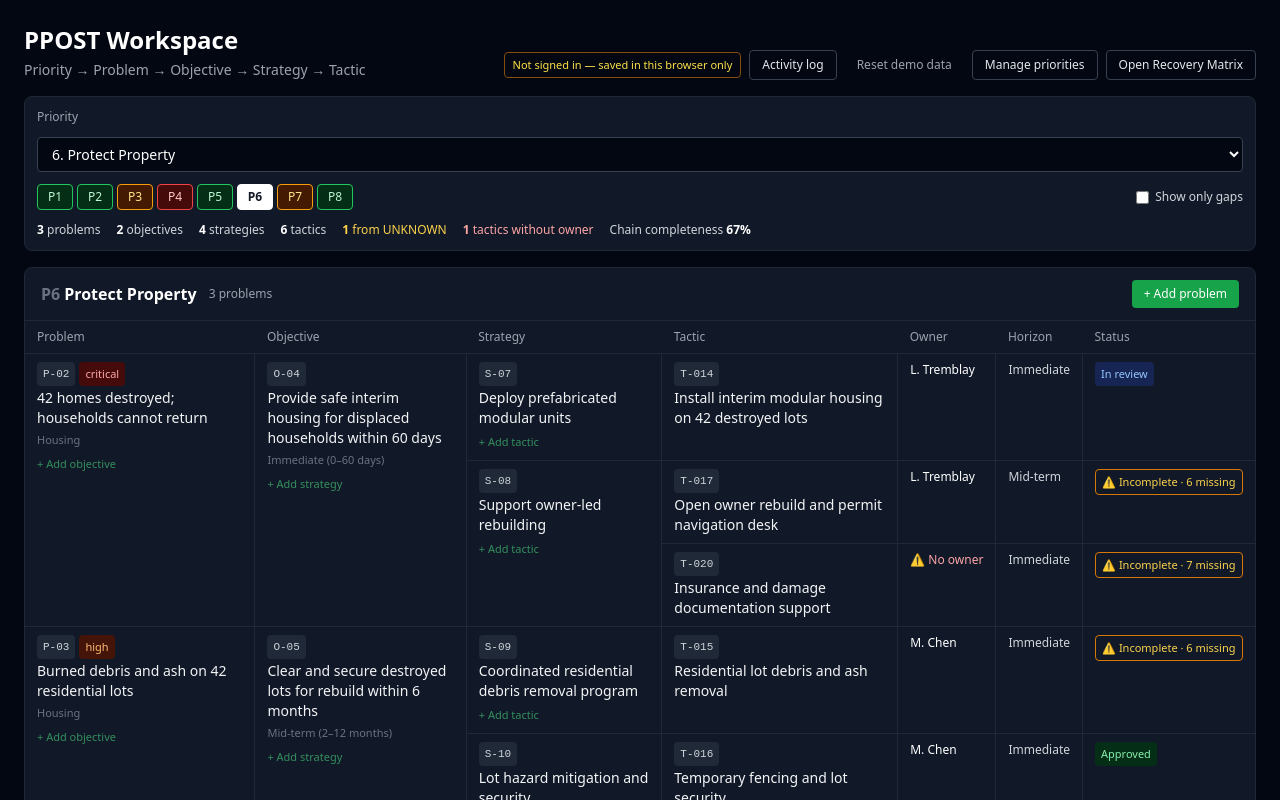
Test: a tactic with missing 5W1H fields cannot be submitted for review
This screenshot has width=1280, height=800.
Click the text "Insurance and damage documentation support".
click(752, 598)  # box [674,578,831,617]
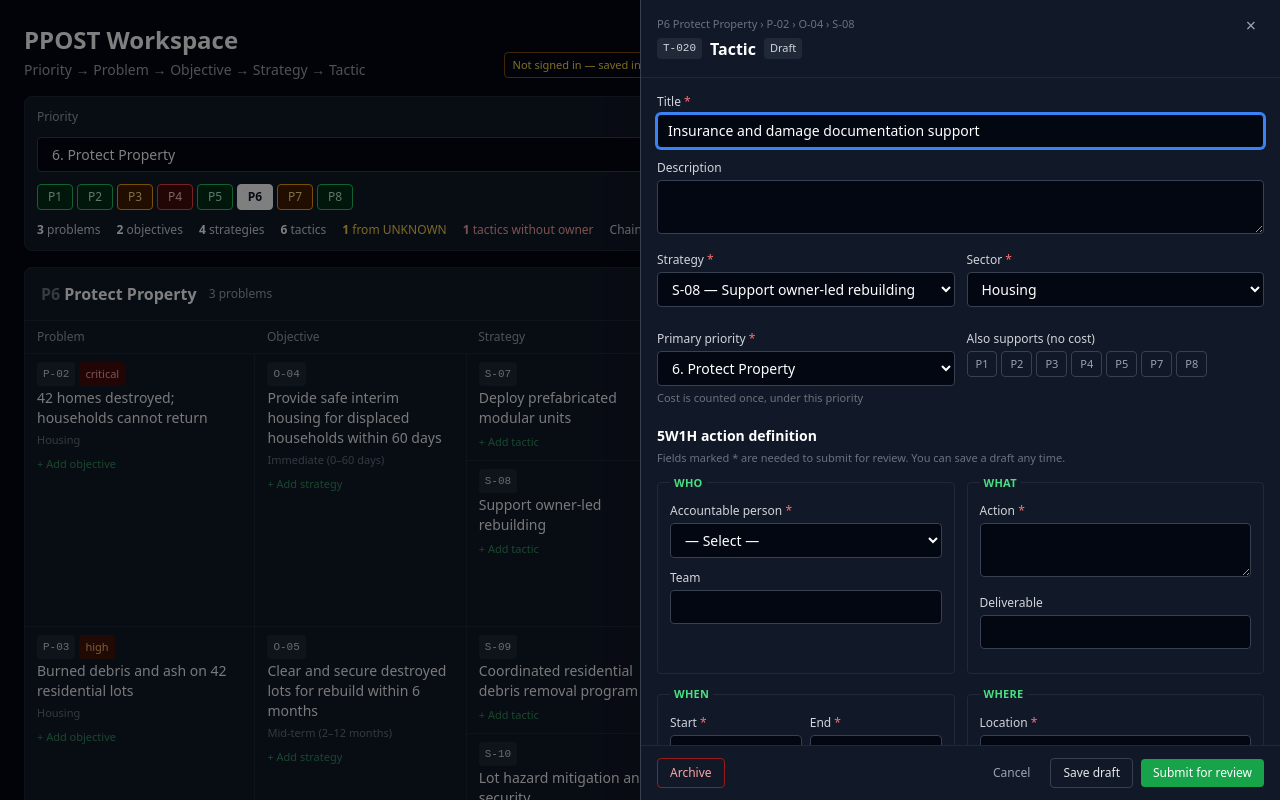
Click the button "Submit for review".
click(1202, 773)  # box [1141,759,1264,787]
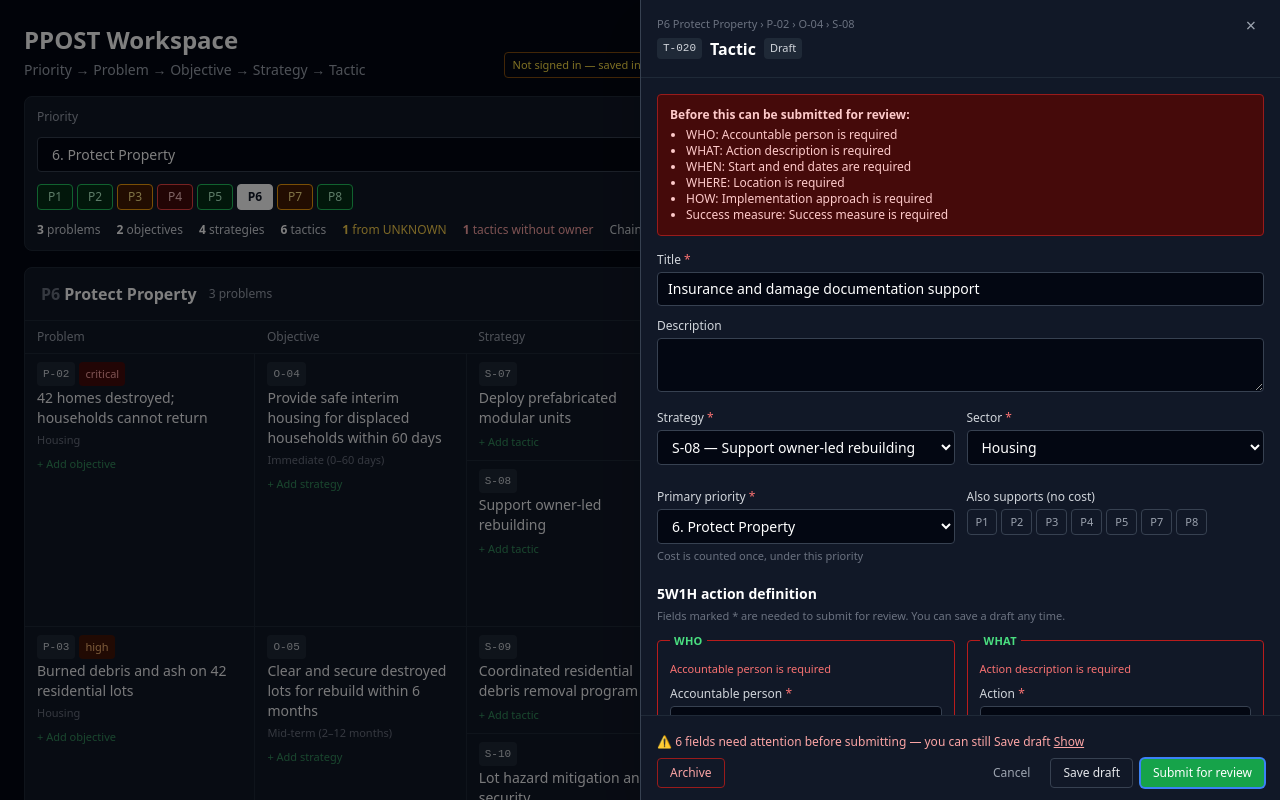
Check: the message that starts with "Before this can be submitted for review:" shows "WHO: Accountable person is required", box [657,94,1264,236]
Check: the message that starts with "Before this can be submitted for review:" shows "WHEN: Start and end dates are required", box [657,94,1264,236]
